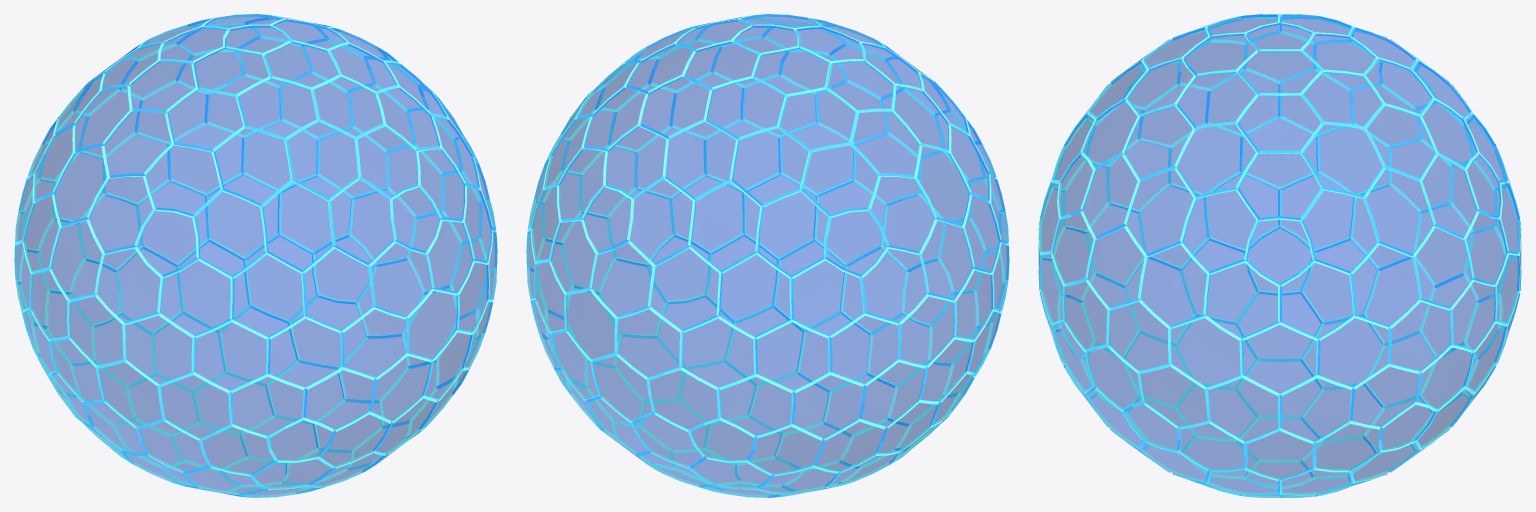
File: shield (1).fbx
The picture shows the model from 3 angles, left to right: view 1: azimuth 30°, elevation 25°; view 2: azimuth 150°, elevation 25°; view 3: azimuth 270°, elevation 25°; orthographic projection.
Parts seen in each view (by area): view 1: GeoSphere003; view 2: GeoSphere003; view 3: GeoSphere003.
Part boxes in pixels (x1,y1,x2,y2): GeoSphere003: (14,14,497,497); GeoSphere003: (526,14,1009,497); GeoSphere003: (1038,14,1521,497).
Size of the model in its own units: 987 by 990 by 988.
